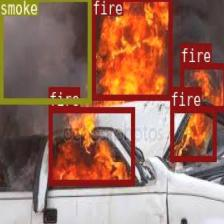fire: (91, 0, 171, 99), (48, 107, 134, 184), (170, 106, 215, 160), (179, 62, 224, 110)
smoke: (0, 0, 91, 103)
